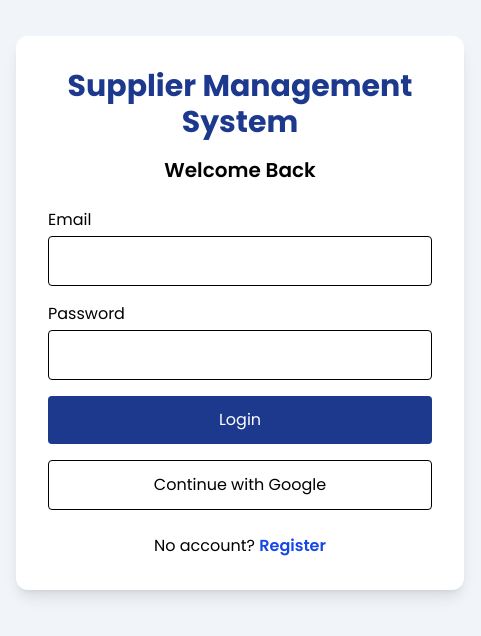
Scenario: Login Page › shows an error when email login fails
The width and height of the screenshot is (481, 636).
Type "john@example.com" into the field labelled "Email" at (240, 261), box x1=48 y1=236 x2=432 y2=286
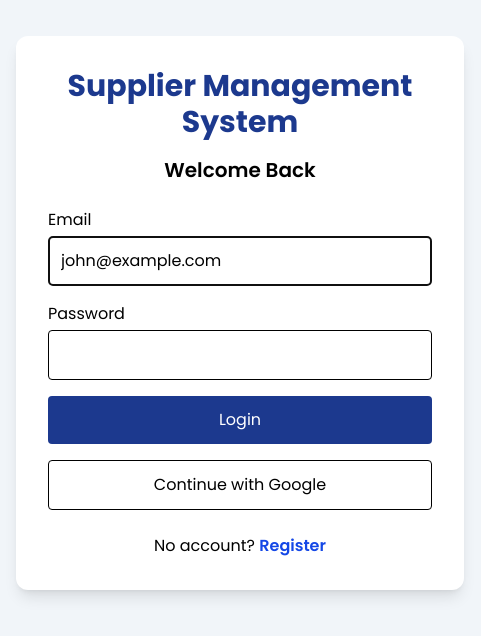
Type "password123" into the password field labelled "Password" at (240, 355), box x1=48 y1=330 x2=432 y2=380
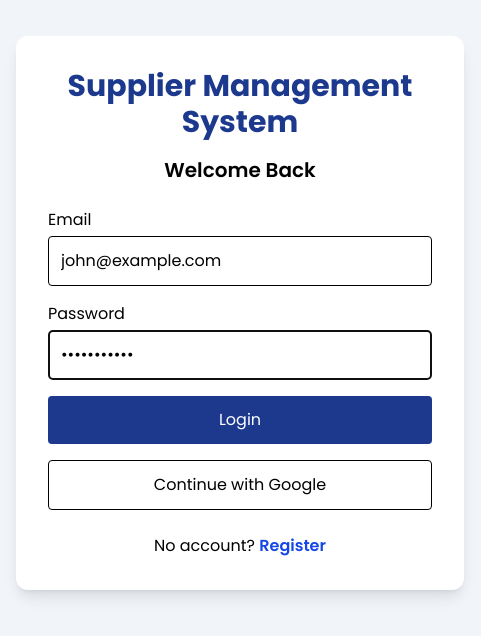
Click the button "Login" at (240, 420), box x1=48 y1=396 x2=432 y2=444
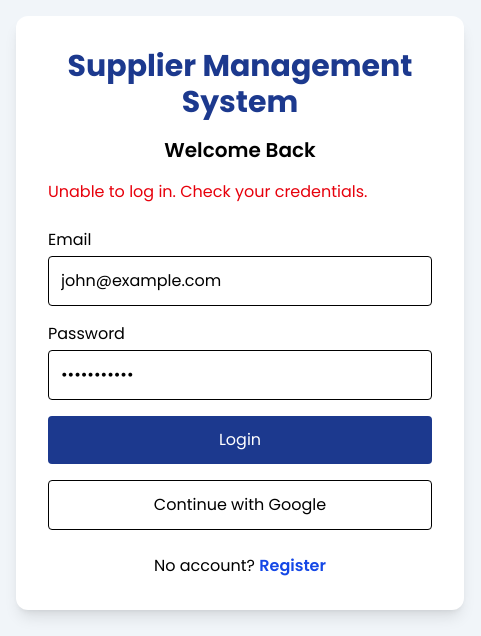
Expected: the message reads "Unable to log in. Check your credentials.", x1=48 y1=180 x2=368 y2=203
